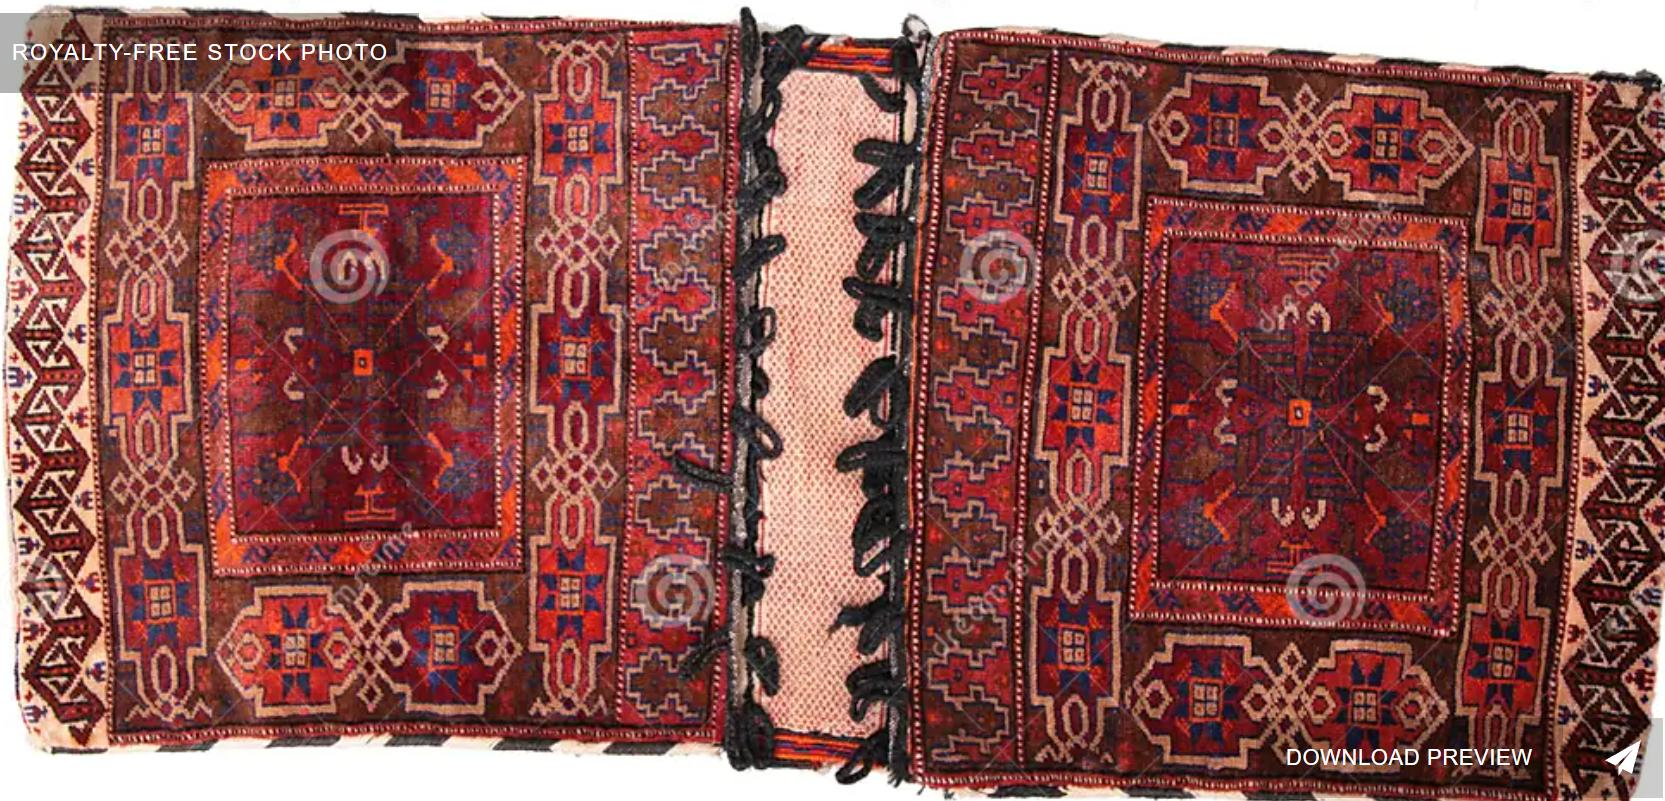carpet: (904, 33, 1665, 799), (4, 10, 745, 752)
